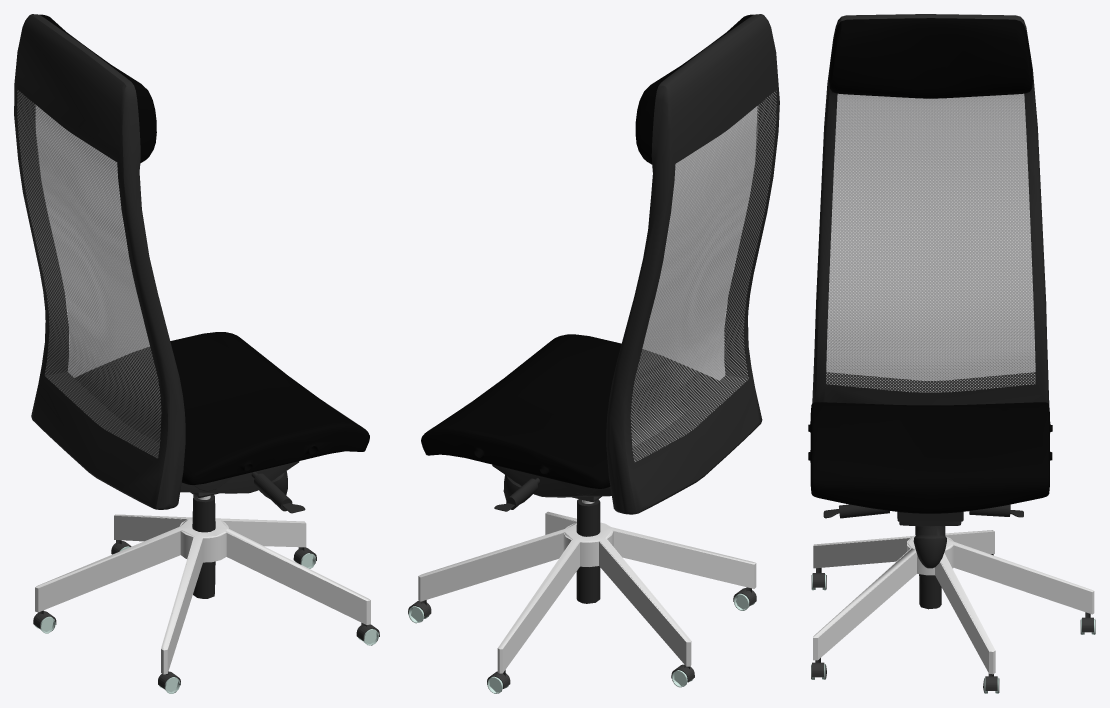
Rendered from chair-ikea-markus_lod2.glb.
3 renders of one model, left to right at view 1: azimuth 30°, elevation 25°; view 2: azimuth 150°, elevation 25°; view 3: azimuth 270°, elevation 25°, orthographic. The views are drawn at different scales.
Visible parts, largest first — view 1: body; view 2: body; view 3: body.
Boxes of the visible parts, left/top/right/bottom form: body: left=14, top=14, right=379, bottom=693; body: left=408, top=14, right=779, bottom=693; body: left=808, top=14, right=1095, bottom=693.
Bounding box in the file's own units: 0.62 × 1.29 × 0.5977.
9 materials, 1 textured.
